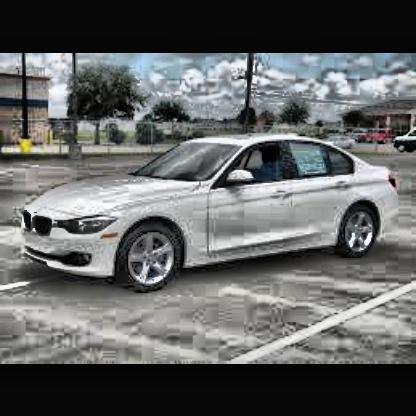BMW 3 Series Sedan 2012: (23, 137, 405, 292)
